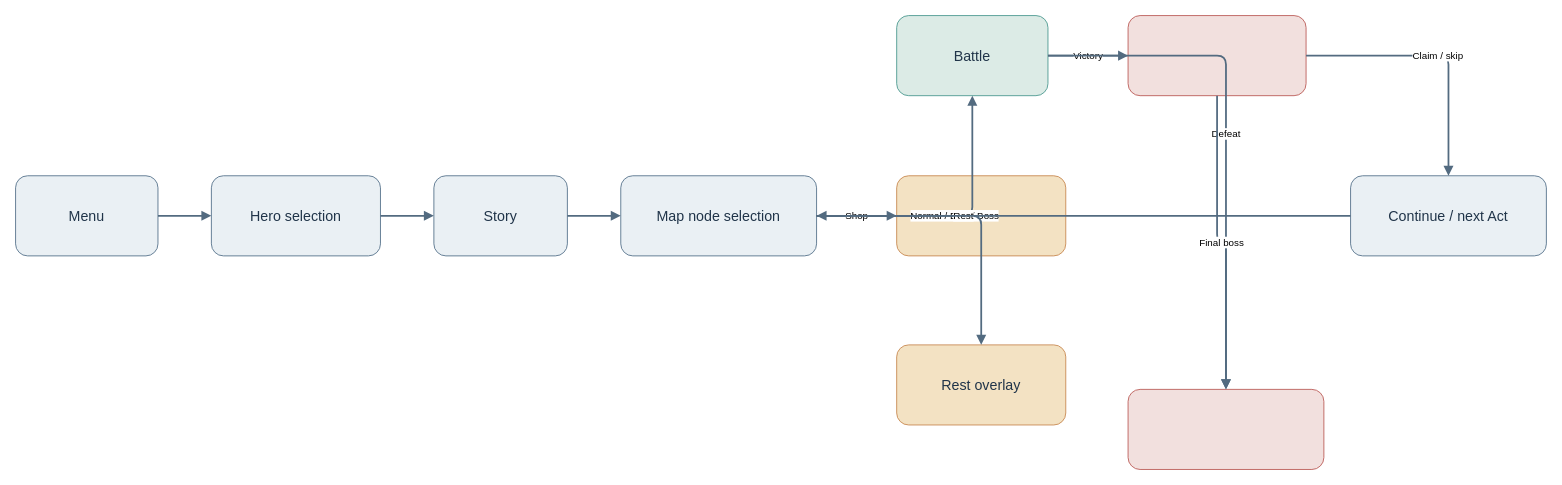
Image size: 1562x485. Some labels were removed from this diagram. Here are the shapes that lost their labels. From the top down, the centre of each, then its label:
At (1216,55): "Battle reward".
At (981,215): "Shop overlay".
At (1225,428): "Victory / defeat result".
